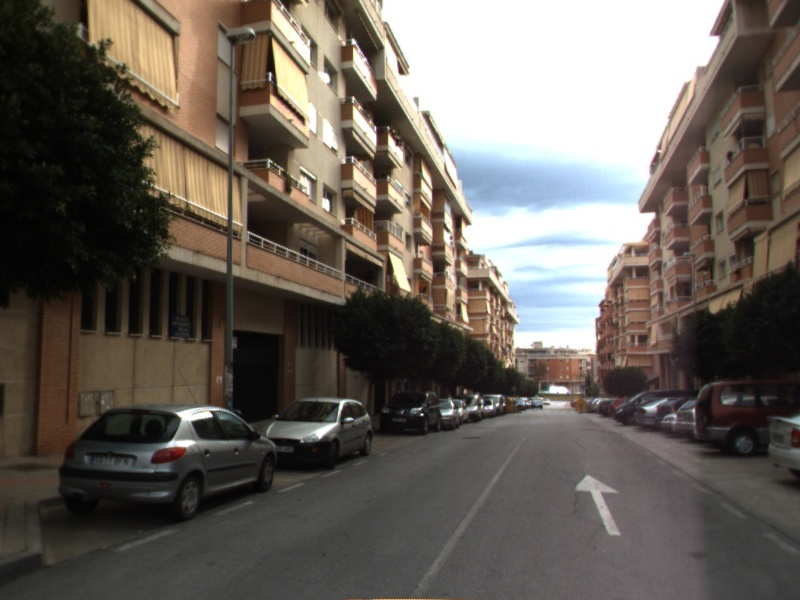STRAIGHT: (571, 472, 623, 538)
